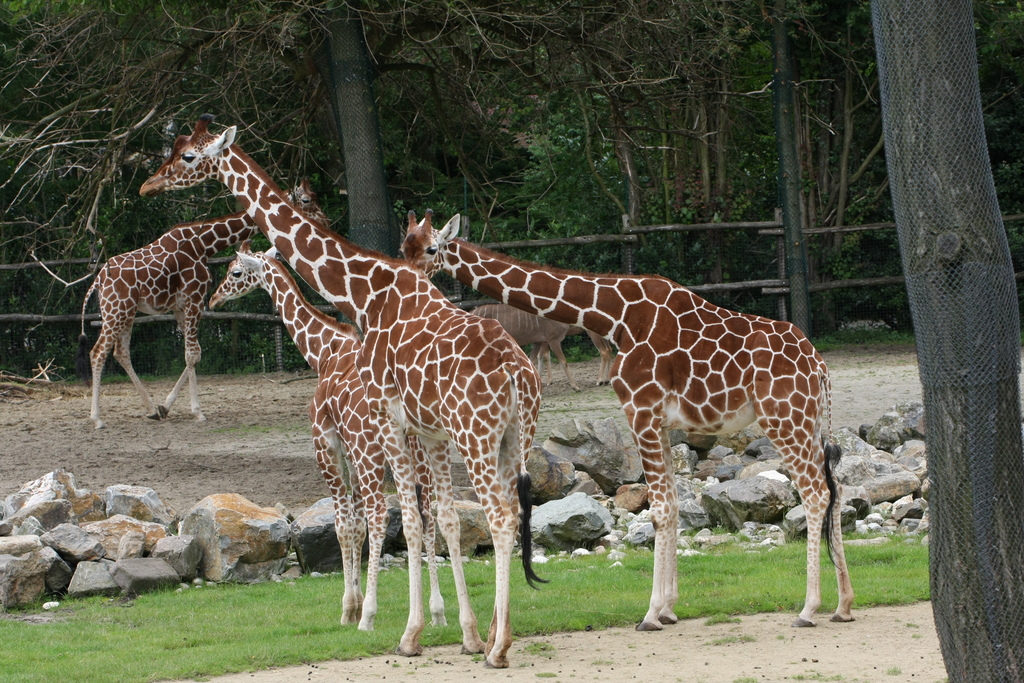giraffe: (406, 206, 868, 644), (138, 124, 524, 641), (201, 253, 465, 649), (62, 171, 329, 434)
